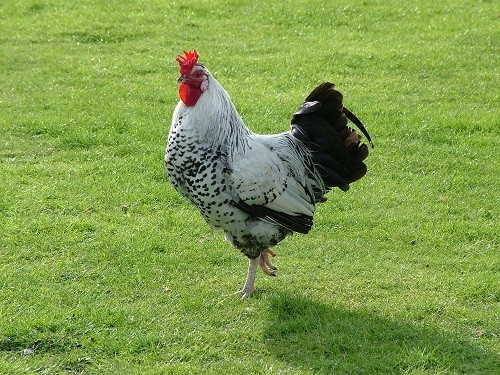Healthy: (158, 47, 374, 303)
